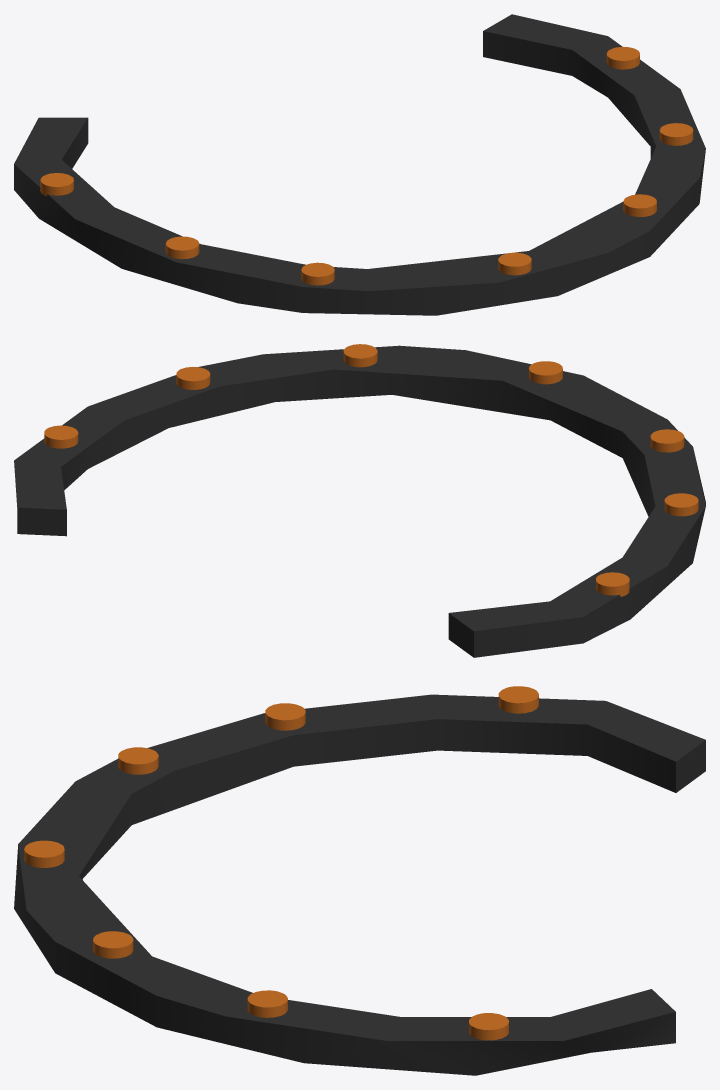
Rendered from objects-horseshoe-261.glb.
3 renders of one model, top to bottom at view 1: azimuth 30°, elevation 25°; view 2: azimuth 150°, elevation 25°; view 3: azimuth 270°, elevation 25°, orthographic. The views are drawn at different scales.
Parts seen in each view (by area): view 1: Cylinder007, Cylinder008; view 2: Cylinder007, Cylinder008; view 3: Cylinder007, Cylinder008.
Part boxes in pixels (x1,y1,x2,y2): Cylinder007: (14,14,705,315); Cylinder008: (40,46,693,285); Cylinder007: (14,345,705,657); Cylinder008: (44,344,698,596); Cylinder007: (14,694,705,1075); Cylinder008: (24,686,538,1040).
Size of the model in its own units: 2319202 by 129487 by 1939219.
